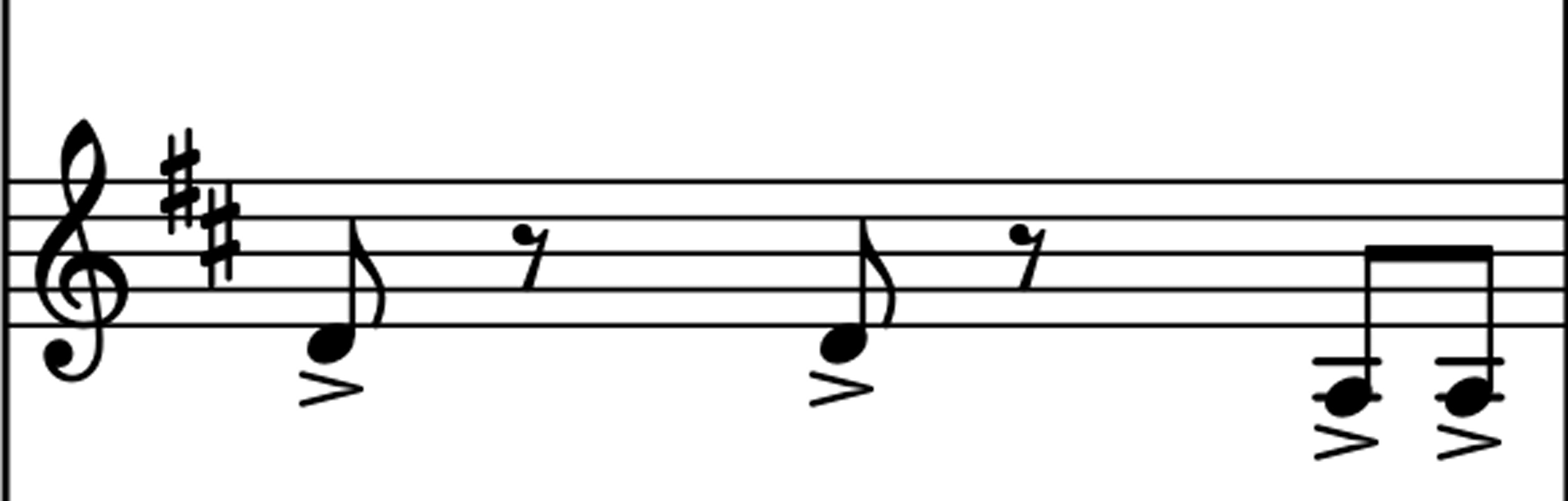articAccentBelow: (1314, 424, 1377, 458), (299, 371, 362, 405), (1437, 424, 1500, 458), (810, 371, 872, 405)
clefG: (20, 94, 137, 410)
flag16thUp: (860, 220, 894, 327)
flag8thUp: (861, 220, 894, 327)
keySharp: (159, 127, 200, 233), (200, 181, 239, 289)
ledgerLine: (1435, 394, 1495, 400), (1311, 394, 1359, 400)
noteheadBlackInSpace: (307, 323, 353, 362), (820, 323, 865, 362)
noteheadBlackOnLine: (1445, 376, 1491, 415), (1325, 377, 1369, 415)
rest8th: (512, 224, 548, 290), (1011, 225, 1045, 289)
staff: (255, 199, 1431, 335)
